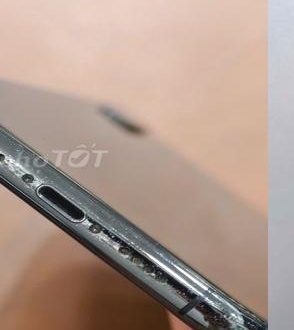scratch: (30, 171, 268, 330), (0, 59, 50, 201)
